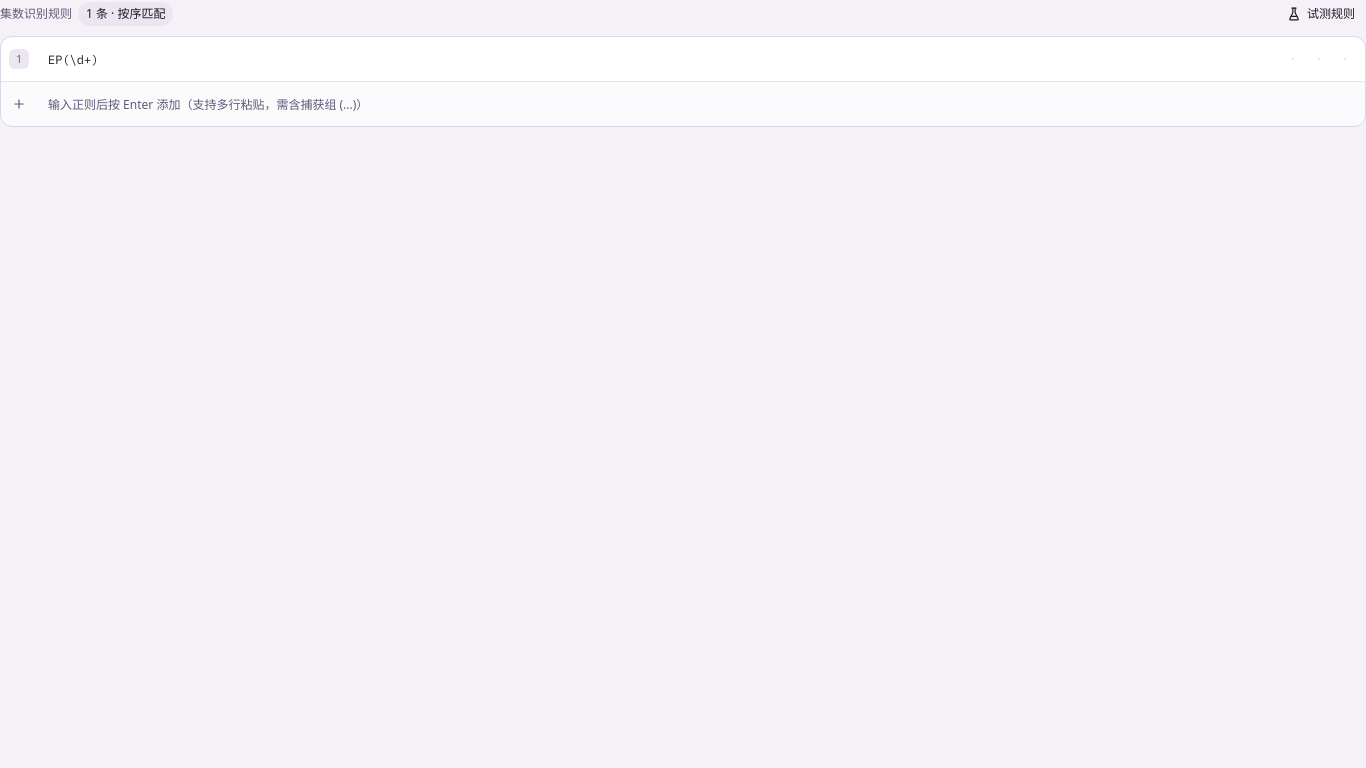
Scenario: EpisodePatternList & RegexTesterDialog › 试测弹窗中存在不兼容正则时禁用应用并提示
This screenshot has width=1366, height=768.
Click the button "试测规则" at (1321, 14), box 1276,0 -> 1365,28
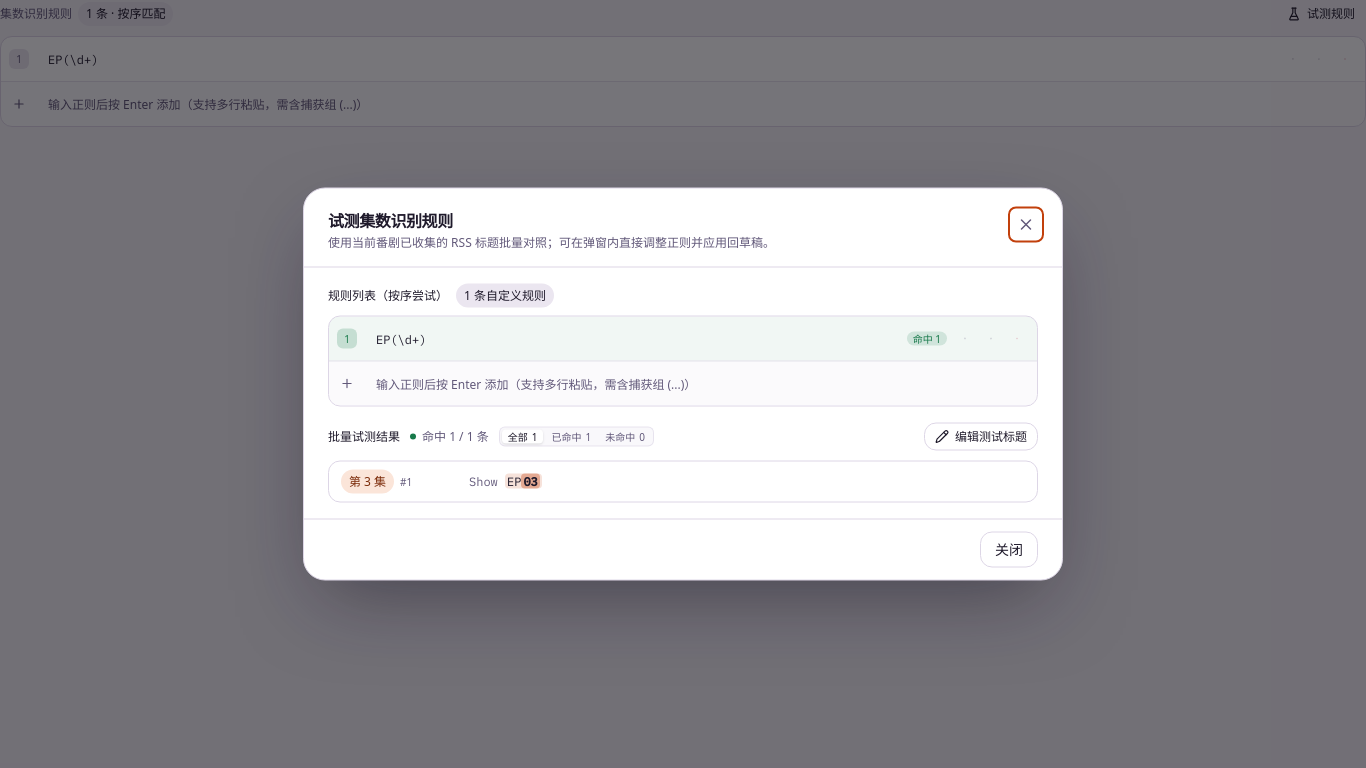
Replace the text in the field named "集数正则第 1 条" with "(?=x)(\\d+)" at (632, 338), box 363,322 -> 901,354
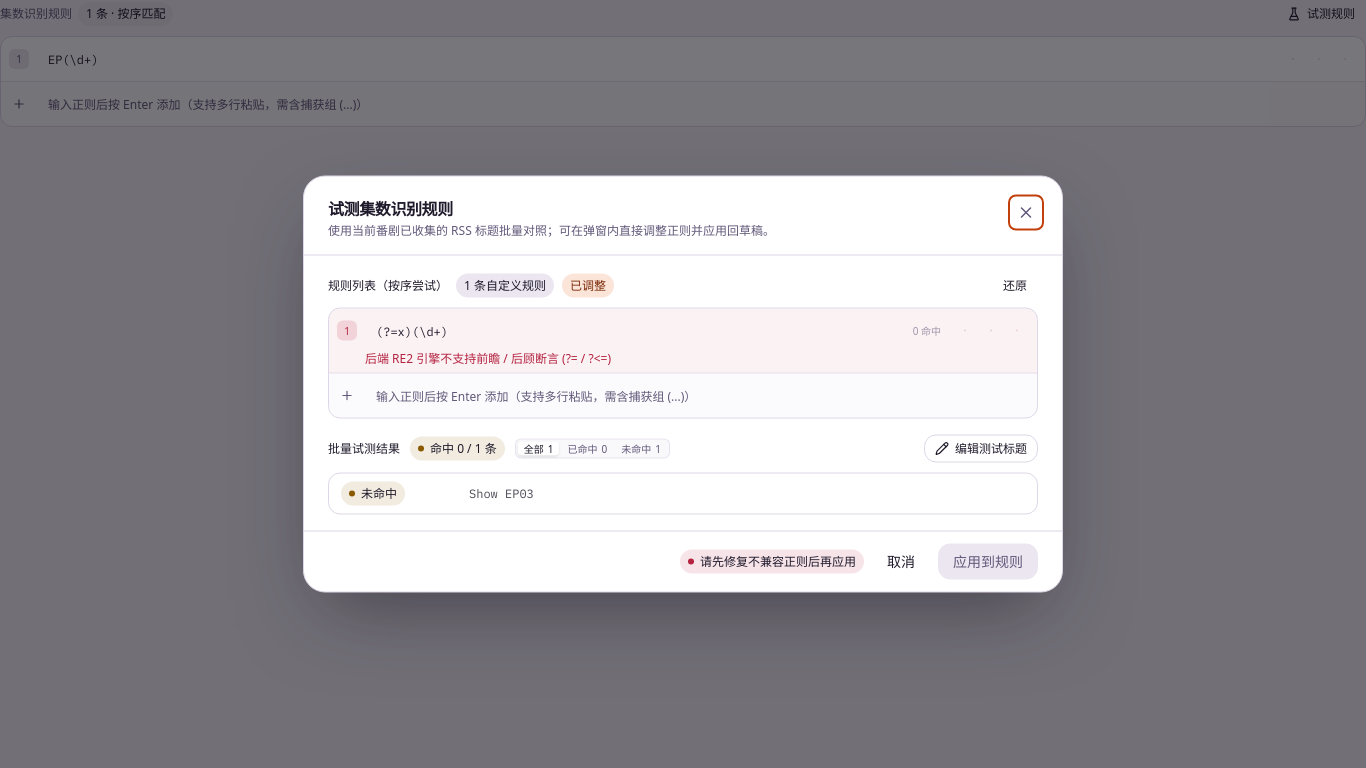
Now the text "请先修复不兼容正则后再应用" is shown, box 680,550 -> 864,574
Now the button "应用到规则" is disabled, box 938,544 -> 1038,580
